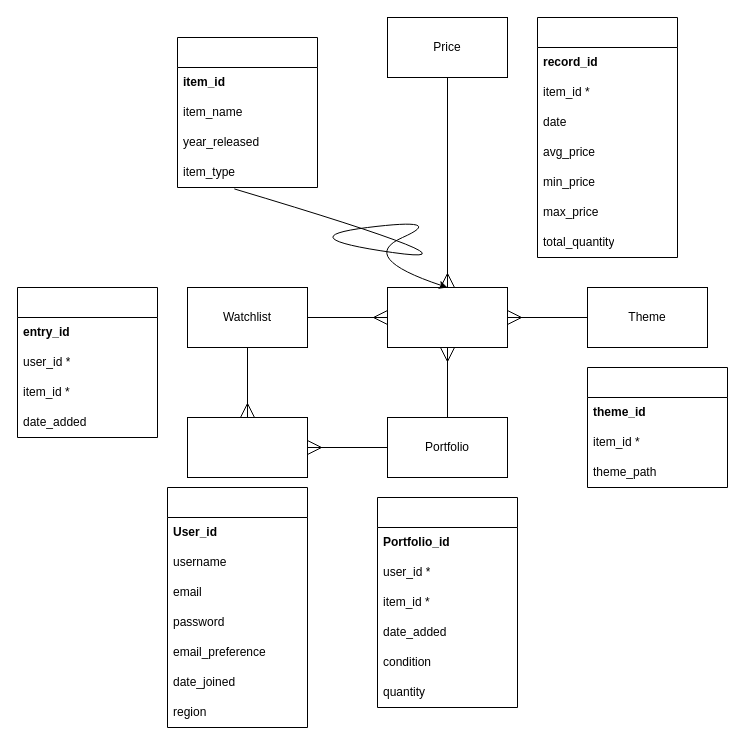
The diagram is 745 pixels wide and 745 high, and some of its shapes have lost their labels. Here are the shapes that lost their labels. From the top down, the box of each, then its label:
(386, 286, 508, 348): Item
(186, 416, 308, 478): User
